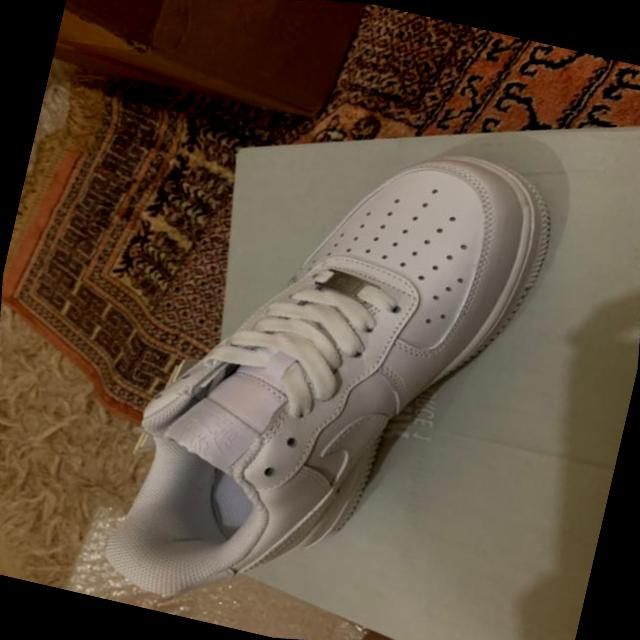nike_original_airforce: (14, 59, 633, 640)
